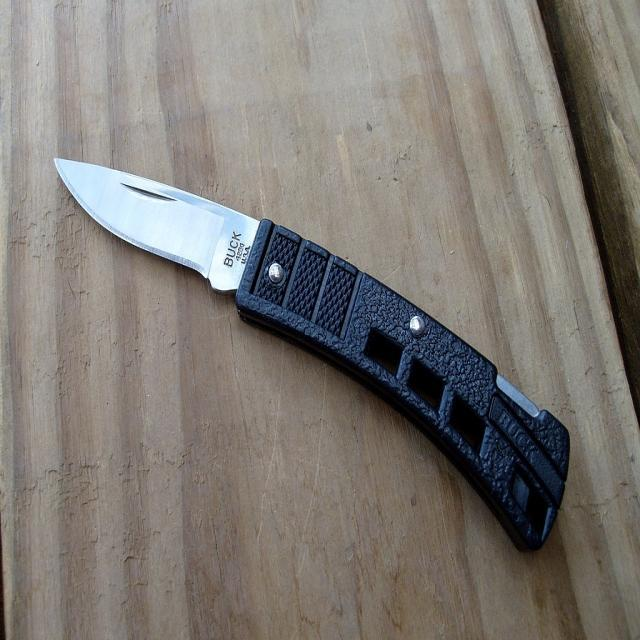Knife: (55, 159, 569, 549)
